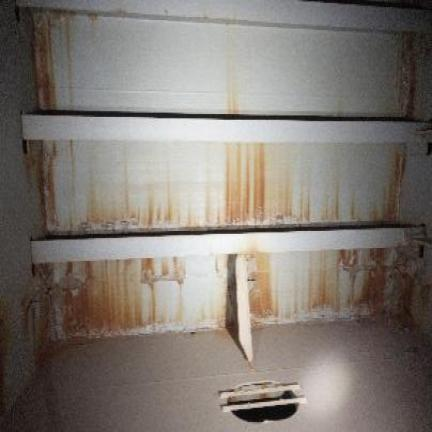besi_tidak_karat: (44, 13, 407, 115), (42, 140, 404, 232), (31, 228, 410, 262), (16, 0, 431, 31), (21, 114, 427, 143), (235, 255, 252, 362)
karat: (36, 255, 227, 339), (250, 250, 407, 321), (33, 14, 55, 108)
